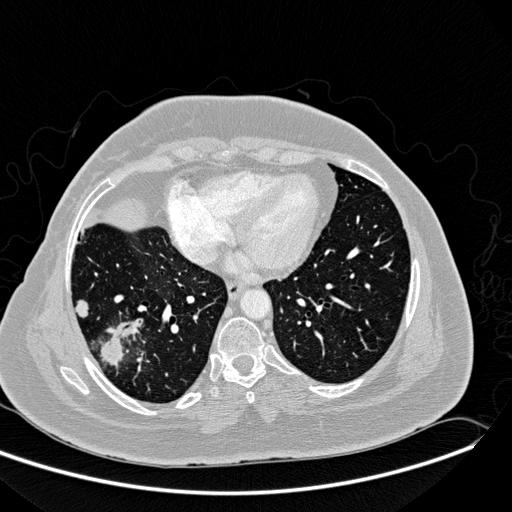nodule: (100, 336, 128, 364)
